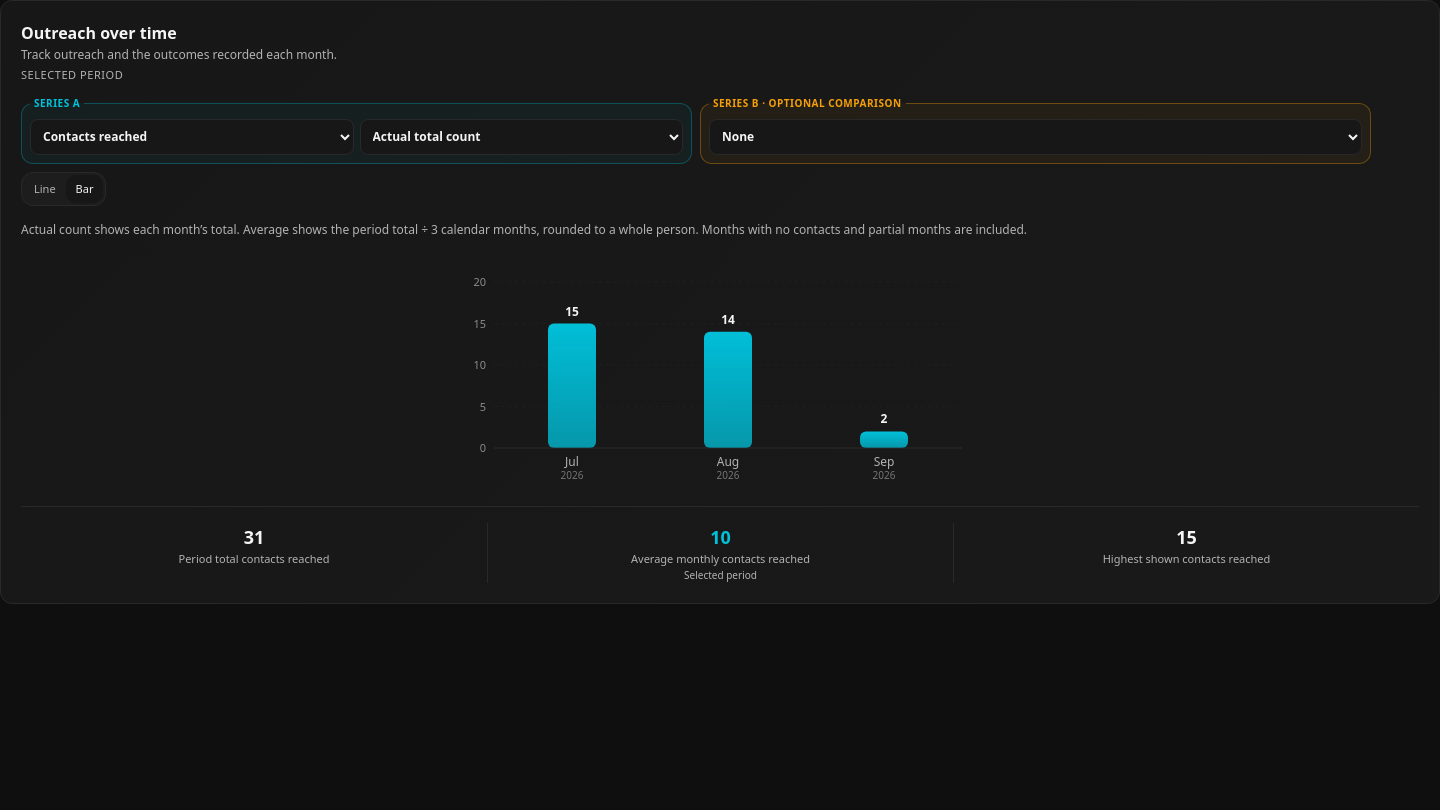
Scenario: OutreachTrend › renders comparison legend when an option is selected
Step 1. Select "Salvation decisions" in the dropdown named "Compare outreach with" → [1036, 136], box [709, 118, 1362, 154]
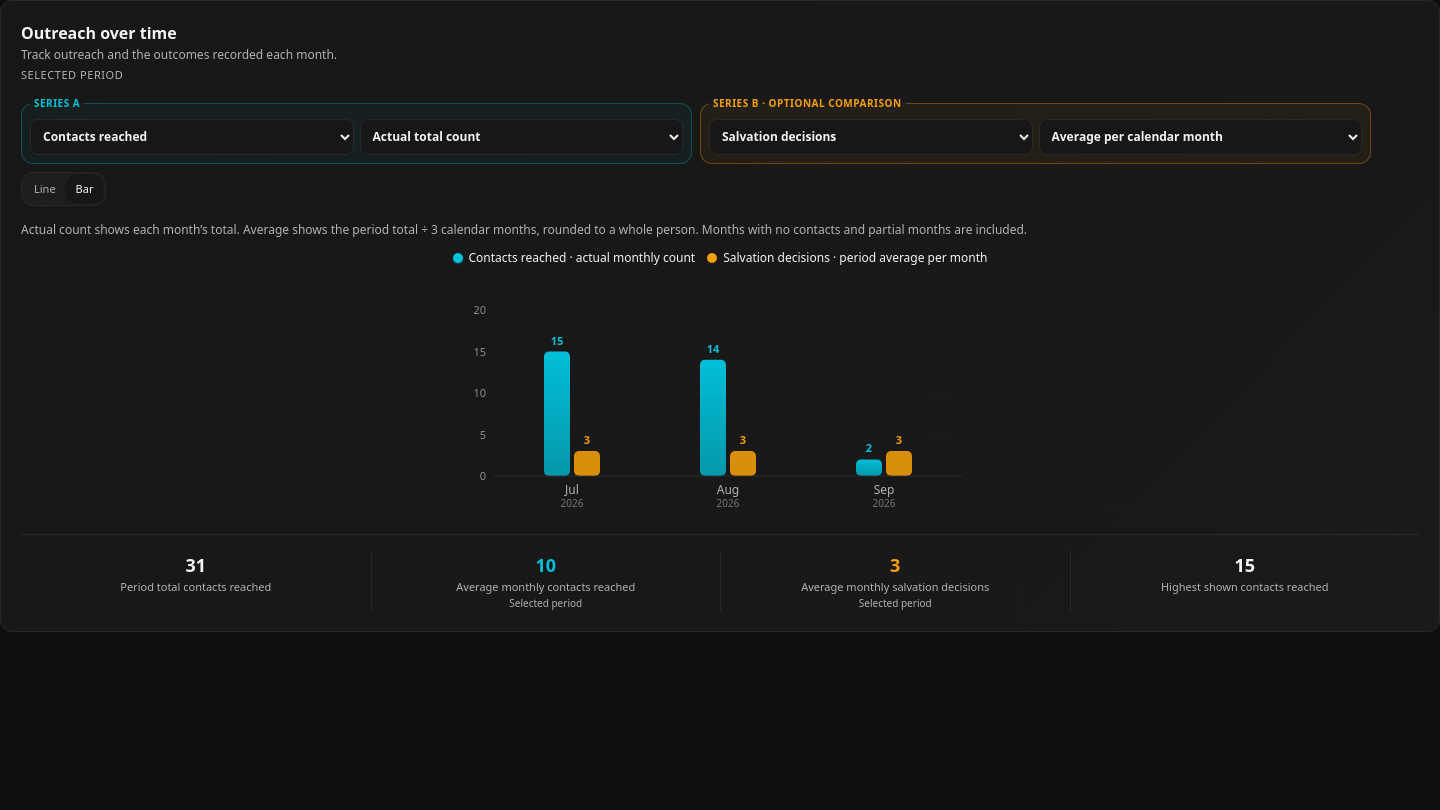
Expected: the text "Contacts reached · actual monthly count" is shown, [468, 250, 695, 266]
Expected: the text "Salvation decisions · period average per month" is shown, [723, 250, 987, 266]
